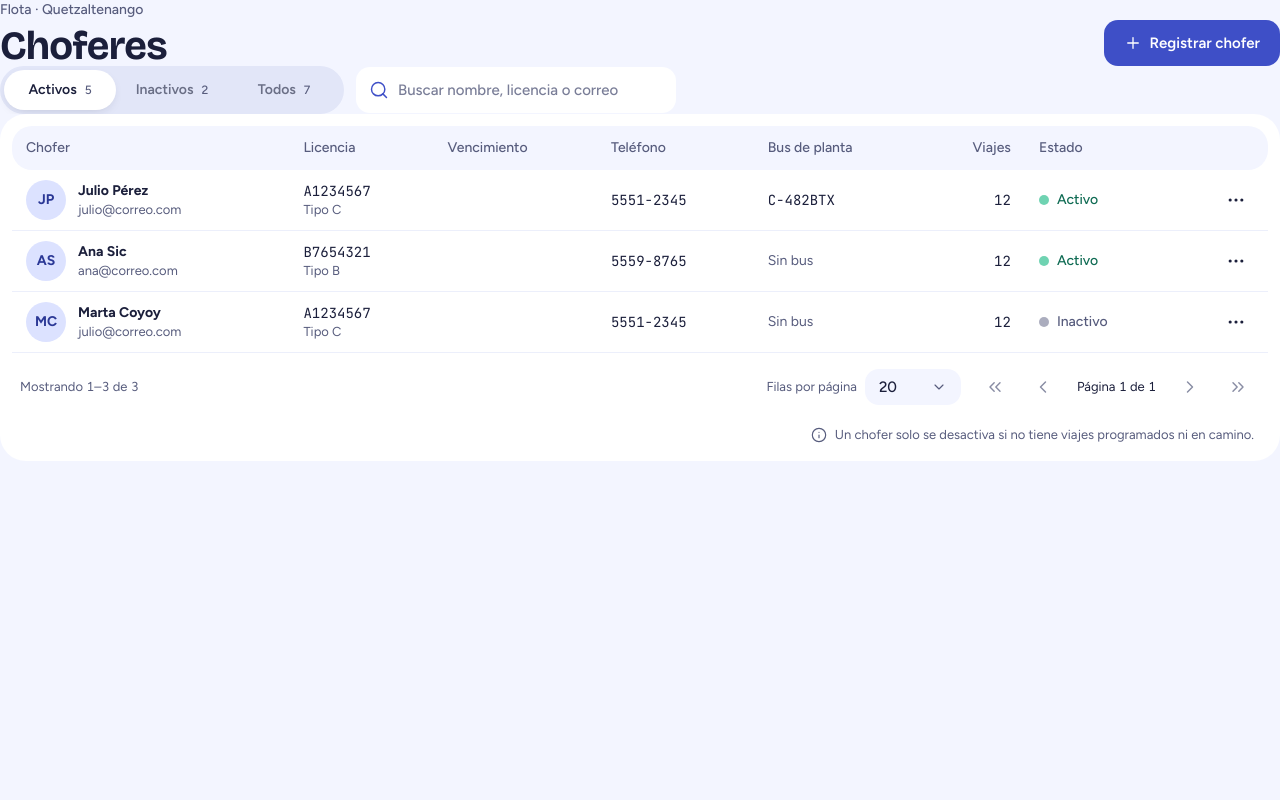
DriversScreen › opens the form from the primary action and from Editar
Click the button "Registrar chofer": (1192, 43) top-left (1104, 20), bottom-right (1279, 66)
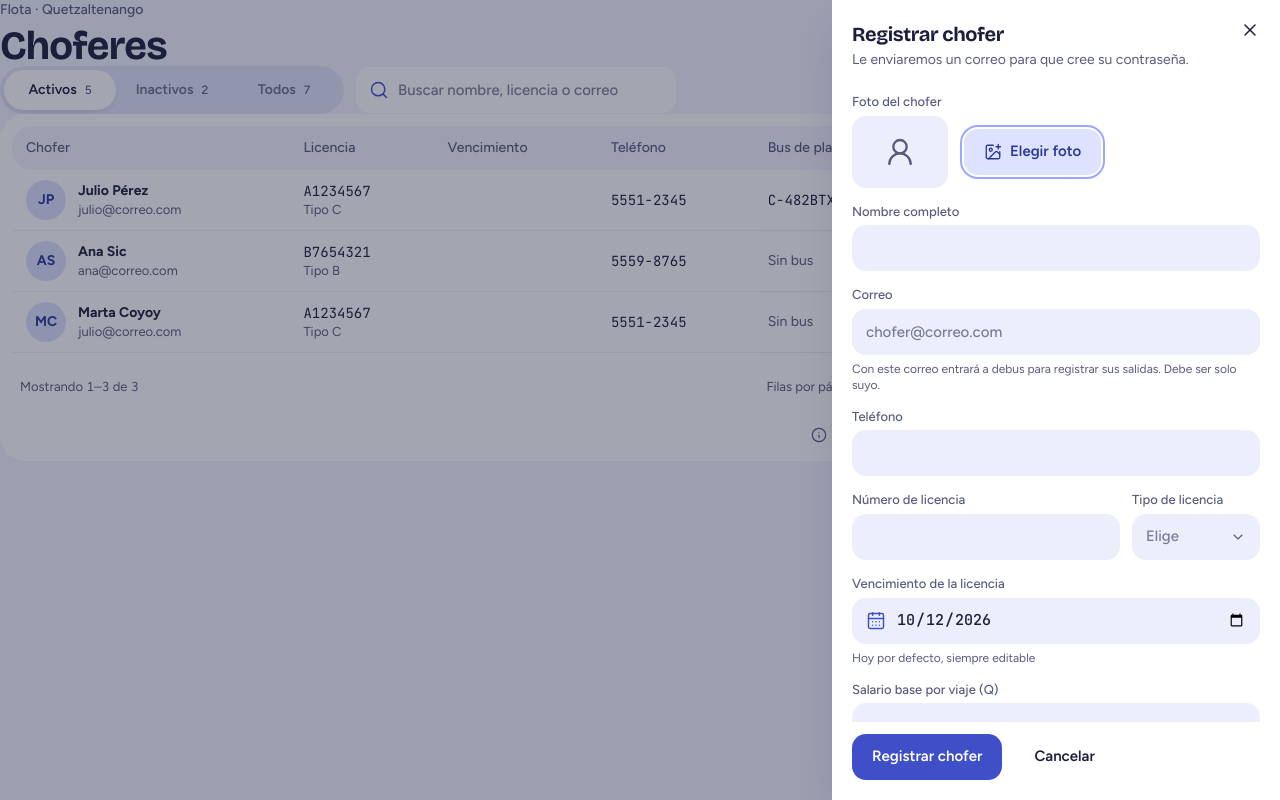
Result: the dialog "Registrar chofer" is shown at top-left (832, 0), bottom-right (1279, 799)
Press Escape
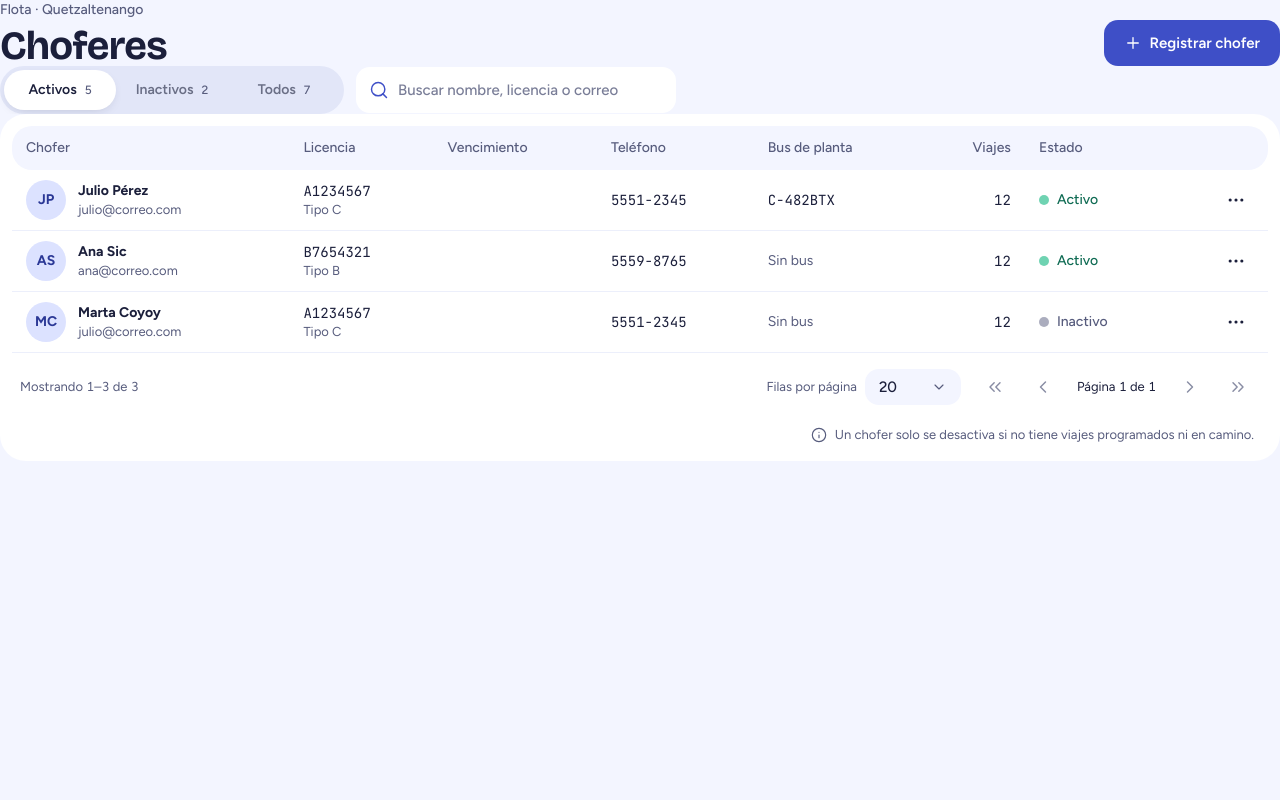
Result: the dialog is gone
Click the button named "Acciones de Julio Pérez": (1236, 200) top-left (1218, 182), bottom-right (1254, 218)
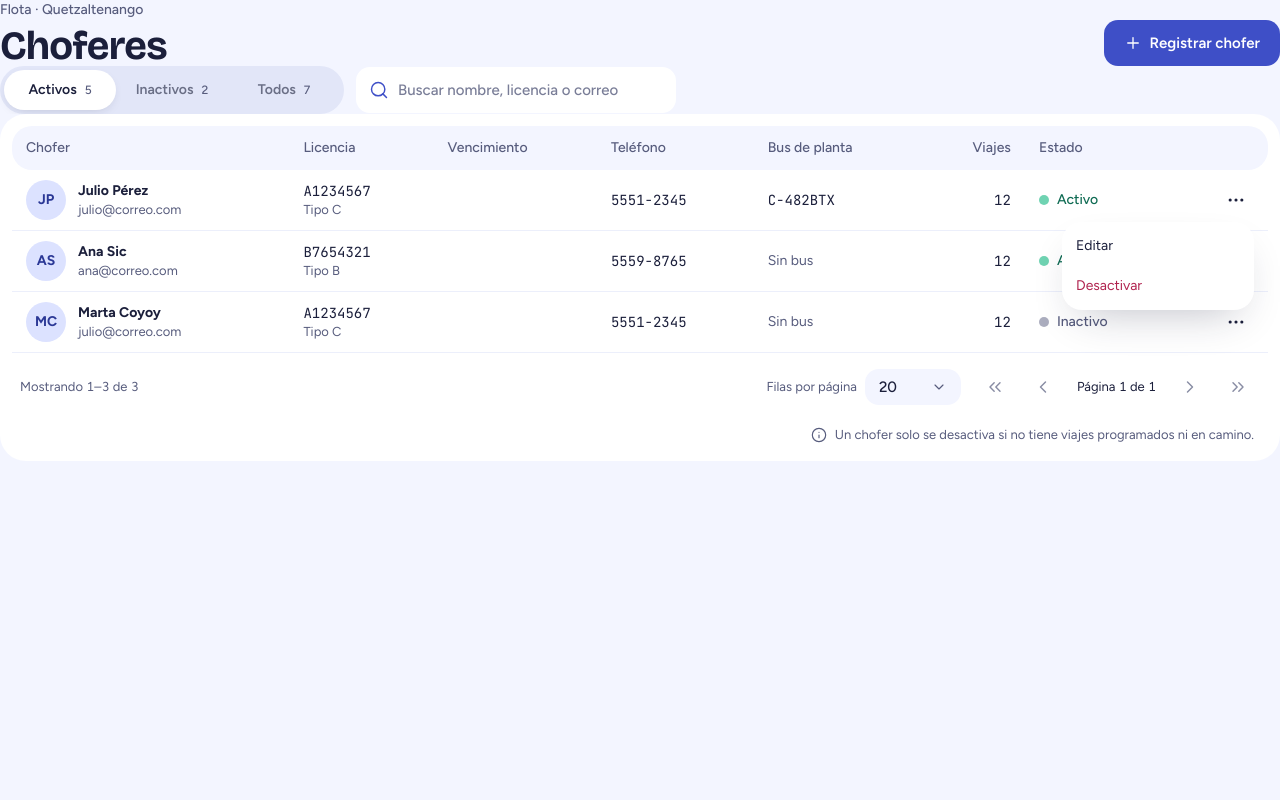
Click the menu item "Editar": (1094, 246) top-left (1076, 237), bottom-right (1113, 254)
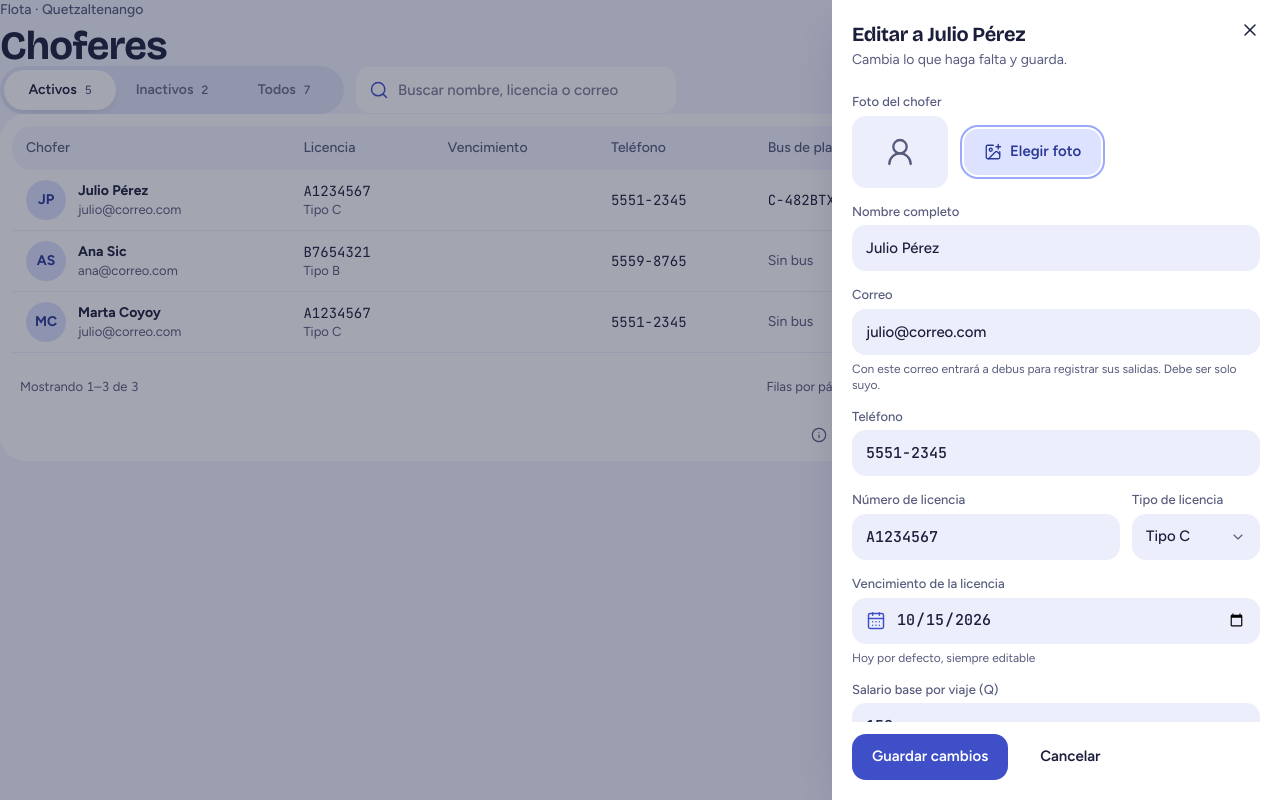
Result: the dialog "Editar a Julio Pérez" is shown at top-left (832, 0), bottom-right (1279, 799)
